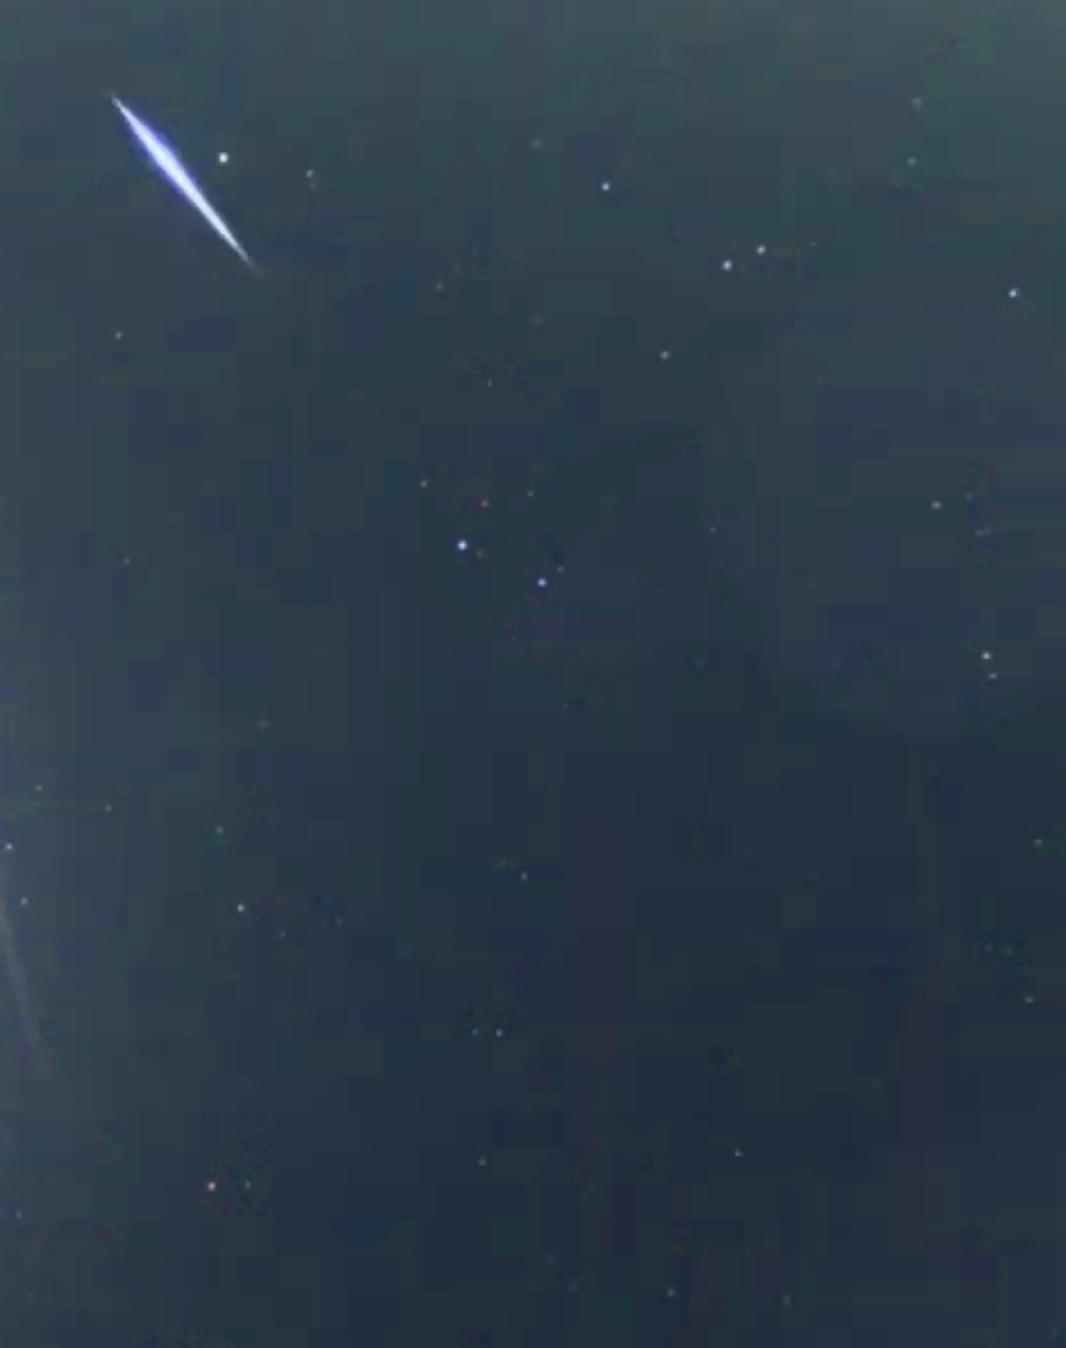meteorite: (84, 68, 303, 298)
